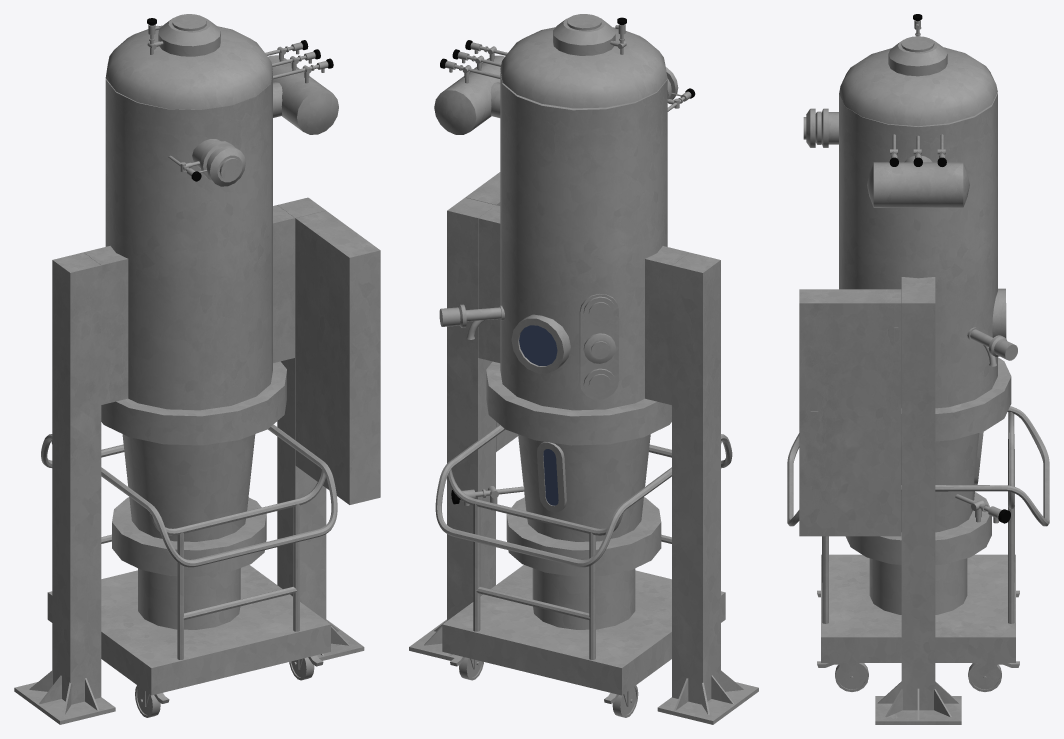
The model's file is Sejong Pharmatech_20250424.gltf.
The picture shows the model from 3 angles, left to right: view 1: azimuth 30°, elevation 25°; view 2: azimuth 150°, elevation 25°; view 3: azimuth 270°, elevation 25°; orthographic projection. The views are drawn at different scales.
Parts seen in each view (by area): view 1: Body, TopLock; view 2: Body, TopLock, SmallLock; view 3: Body, TopLock, SmallLock.
Boxes of the visible parts, x1,y1,x2,y2 form: Body: (14,40,380,724); TopLock: (105,14,272,109); Body: (409,40,758,724); TopLock: (500,14,667,108); SmallLock: (511,314,570,373); Body: (787,93,1049,724); TopLock: (839,14,997,126); SmallLock: (992,288,1006,338).
Size of the model in its own units: 20.72 by 43 by 16.45.
1 material, 1 textured.
